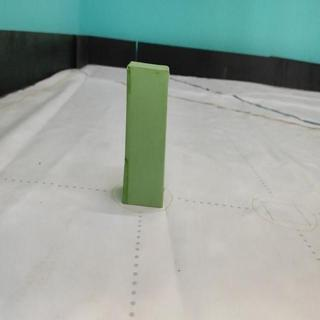greenbox: (119, 57, 172, 208)
